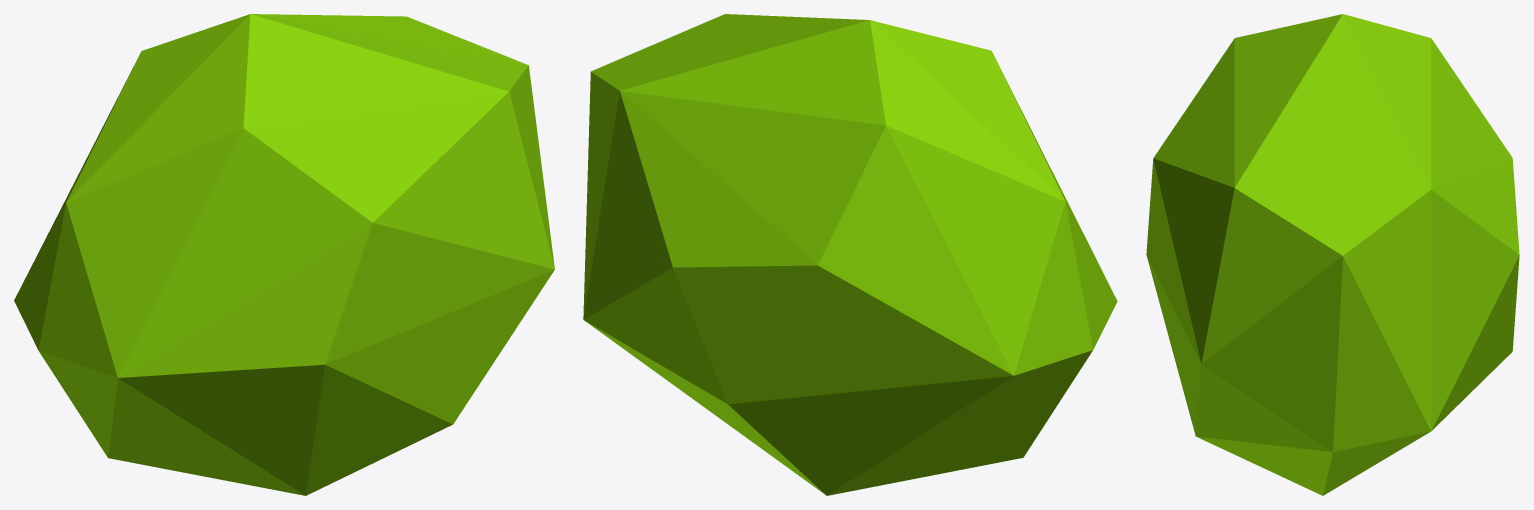
Rendered from Bush2.fbx.
3 views of the same model, side by side, from view 1: azimuth 30°, elevation 25°; view 2: azimuth 150°, elevation 25°; view 3: azimuth 270°, elevation 25° (orthographic). The views are drawn at different scales.
Parts seen in each view (by area): view 1: Bush2; view 2: Bush2; view 3: Bush2.
Boxes of the visible parts, x1=… form: Bush2: x1=14, y1=14, x2=554, y2=495; Bush2: x1=583, y1=14, x2=1117, y2=495; Bush2: x1=1146, y1=14, x2=1519, y2=495.
Bounding box in the file's own units: 0.338 × 0.3074 × 0.2323.
